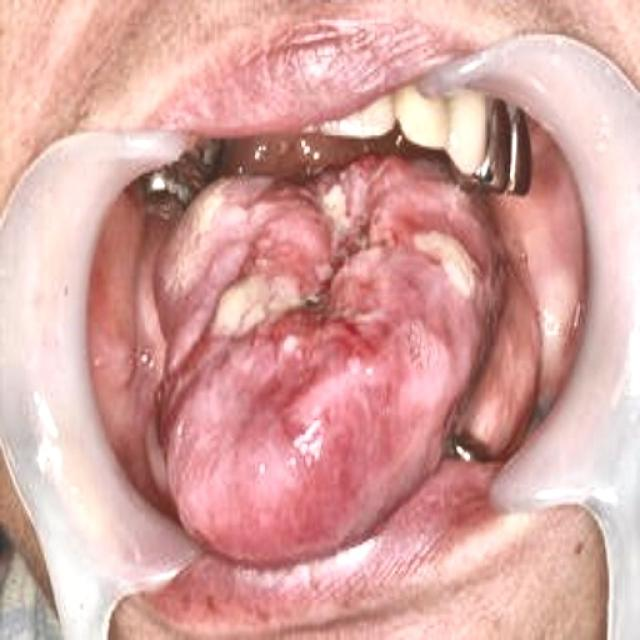leukoplakia-like-detection: (169, 155, 500, 359)
processing_area: (91, 125, 580, 565)
